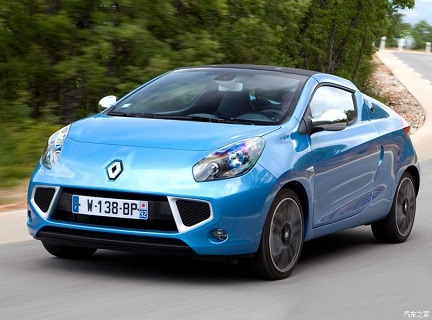雷诺-Wind: (21, 58, 428, 280)
